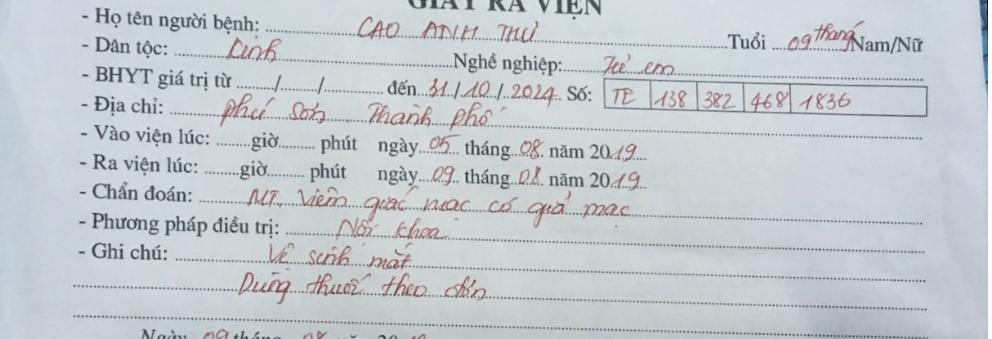add: (219, 95, 279, 130), (365, 99, 434, 127), (285, 96, 342, 129), (446, 100, 507, 129)
birth: (814, 16, 863, 48), (782, 25, 813, 55)
come_time: (587, 137, 636, 162), (462, 139, 513, 160), (374, 137, 422, 159), (546, 141, 586, 163), (515, 135, 545, 164), (423, 132, 458, 154)
diagnostic: (357, 189, 413, 227), (525, 188, 573, 225), (295, 180, 350, 210), (575, 197, 635, 224), (417, 195, 475, 222), (243, 178, 285, 211), (485, 196, 524, 225)
id: (603, 77, 934, 121)
job: (637, 54, 683, 80), (594, 48, 634, 76)
name: (419, 14, 484, 47), (352, 10, 406, 45), (494, 14, 548, 48)
nation: (222, 33, 287, 69)
note: (299, 264, 370, 297), (234, 268, 294, 304), (378, 264, 433, 299), (443, 271, 492, 303), (366, 240, 416, 271), (307, 238, 356, 267), (262, 240, 301, 268)
out_time: (589, 164, 644, 190), (465, 162, 513, 186), (377, 163, 423, 188), (547, 166, 590, 192), (424, 162, 460, 188), (515, 161, 544, 192)
solution: (390, 217, 450, 242), (334, 214, 382, 240)
